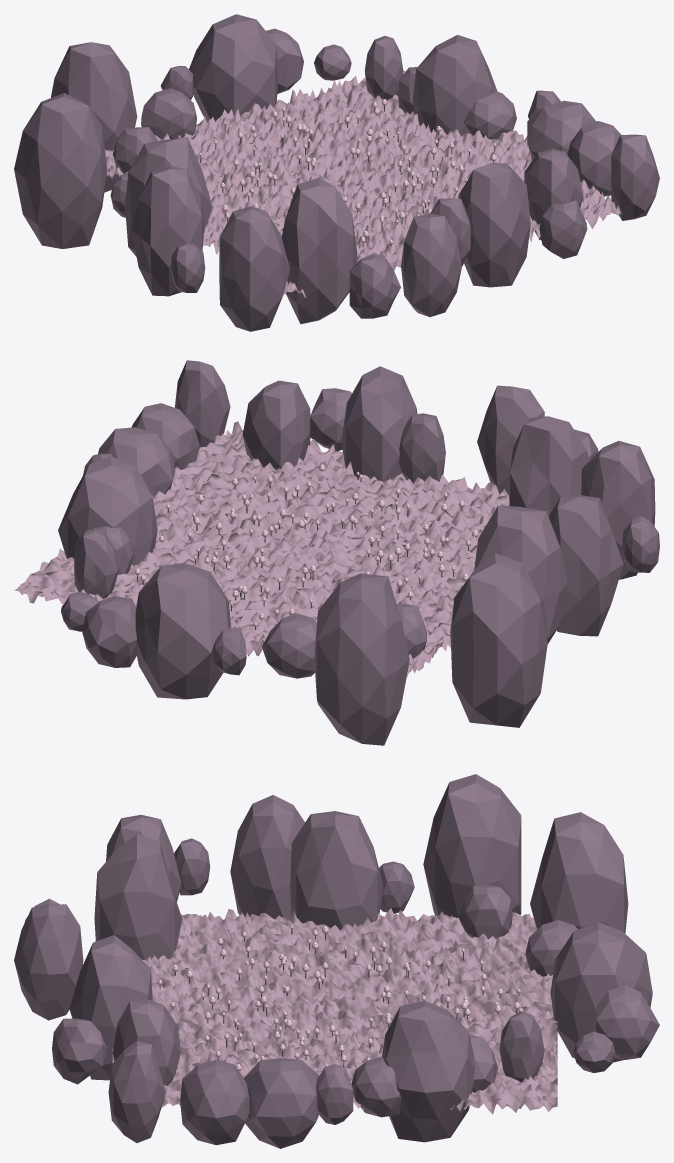
File: sakura_terrain.gltf
The picture shows the model from 3 angles, top to bottom: view 1: azimuth 30°, elevation 25°; view 2: azimuth 150°, elevation 25°; view 3: azimuth 270°, elevation 25°; orthographic projection. The views are drawn at different scales.
Bounding box in the file's own units: 339 × 98.6 × 348.
